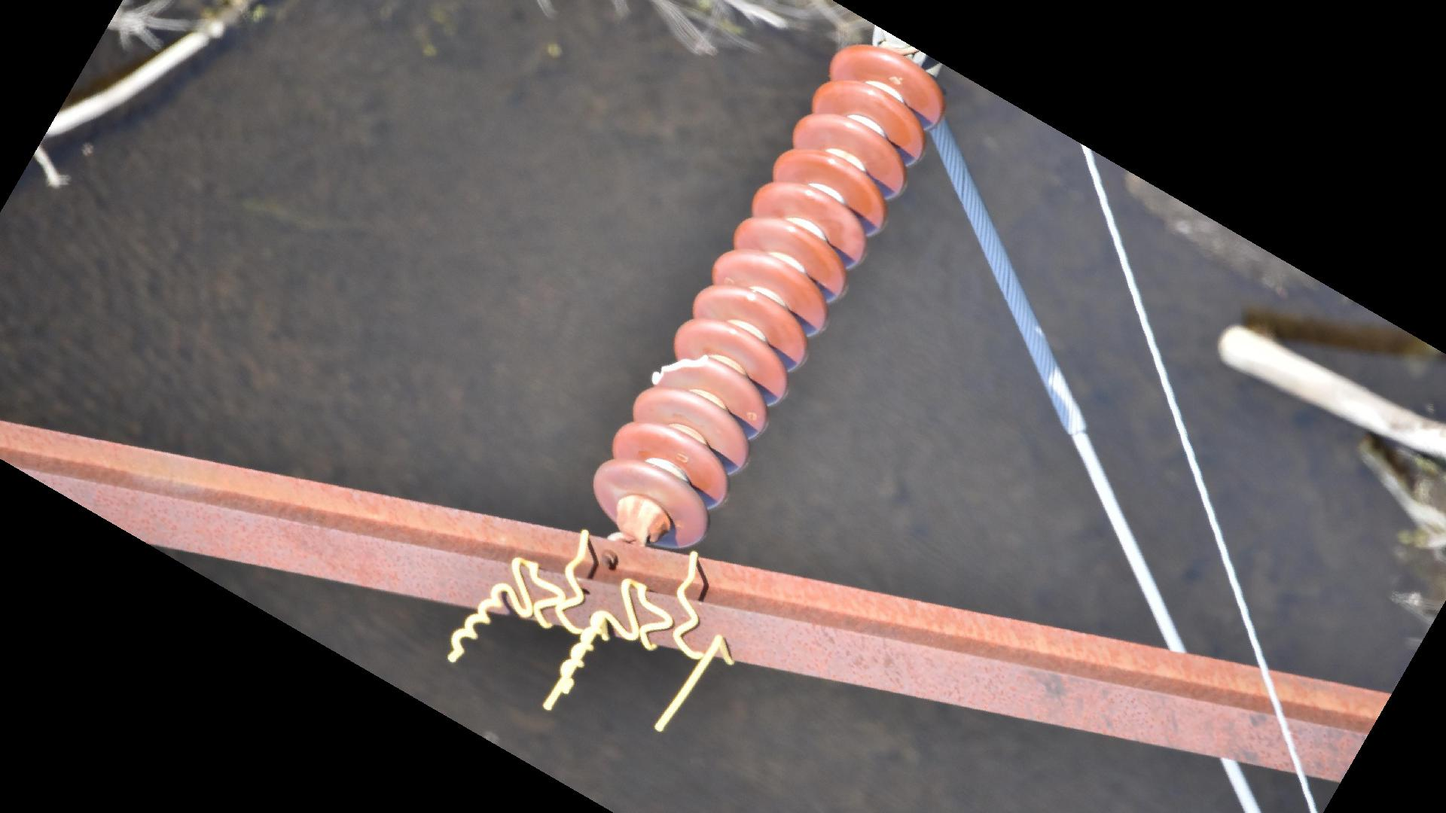insulator: (581, 39, 955, 553)
insulator_breakage: (644, 350, 721, 388)
